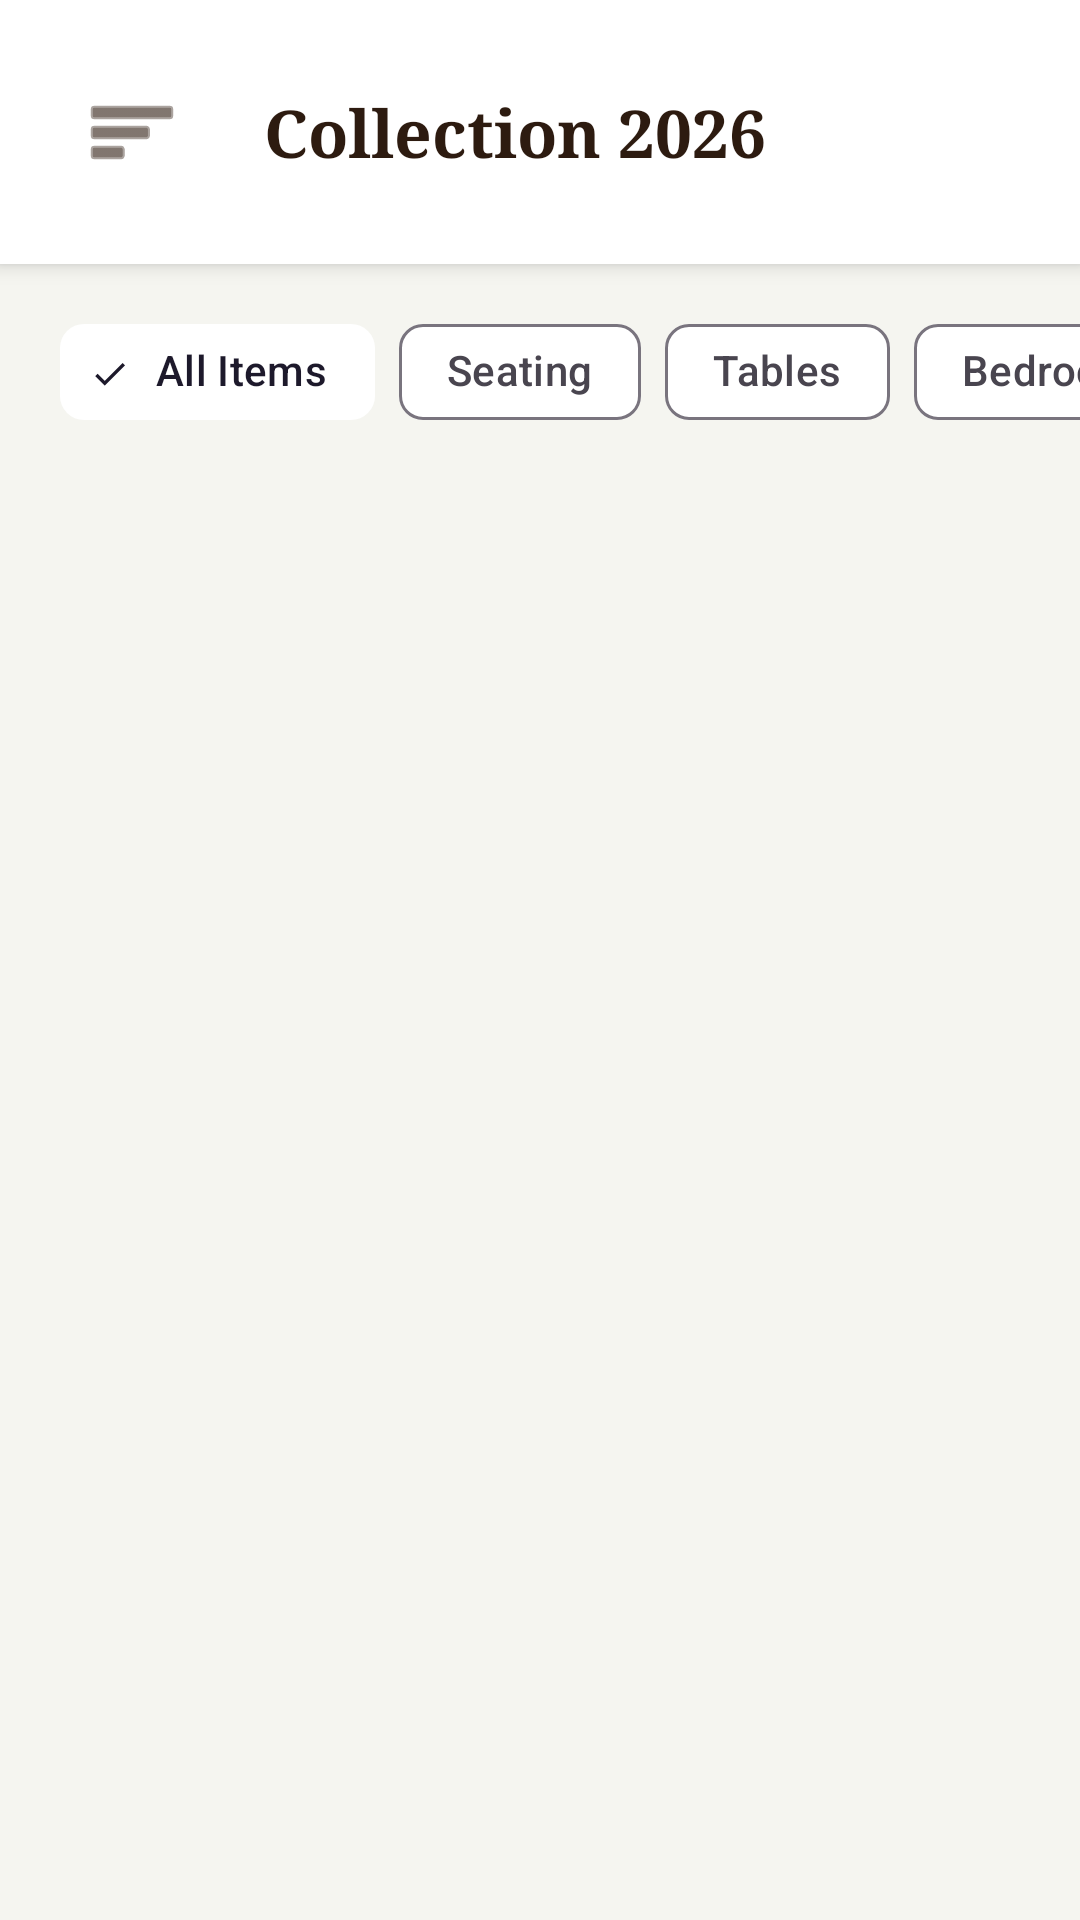

Where icons sit on this 1080*1920 app screen, as bbox=[x1, y1, x2, y2]:
sort by size: bbox=[91, 106, 173, 159]
